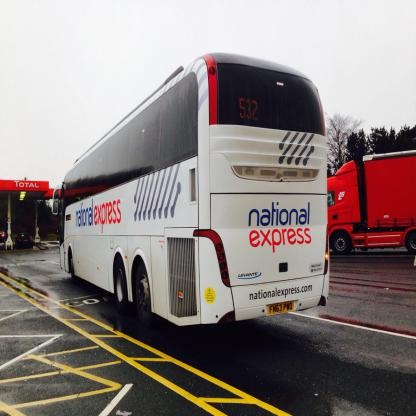Bus: (51, 49, 332, 327)
